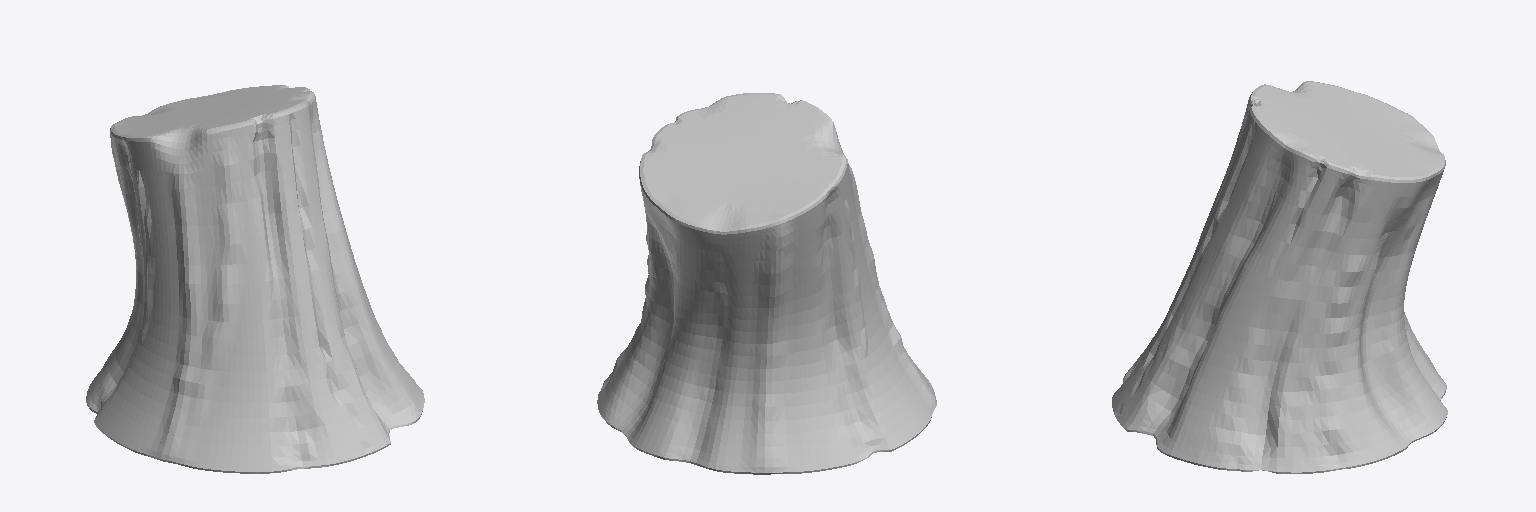
The model's file is pine_stump.obj.
3 renders of one model, left to right at view 1: azimuth 30°, elevation 25°; view 2: azimuth 150°, elevation 25°; view 3: azimuth 270°, elevation 25°, orthographic.
Bounding box in the file's own units: 2.87 × 2.82 × 2.85.